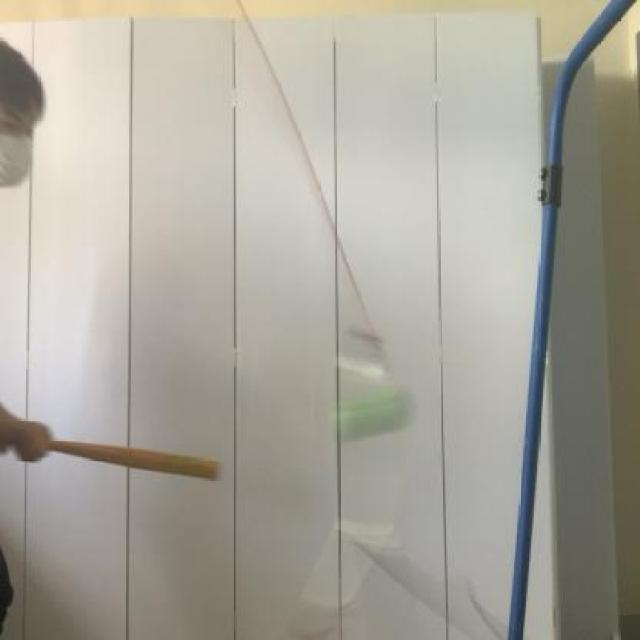baseball: (328, 377, 426, 452)
